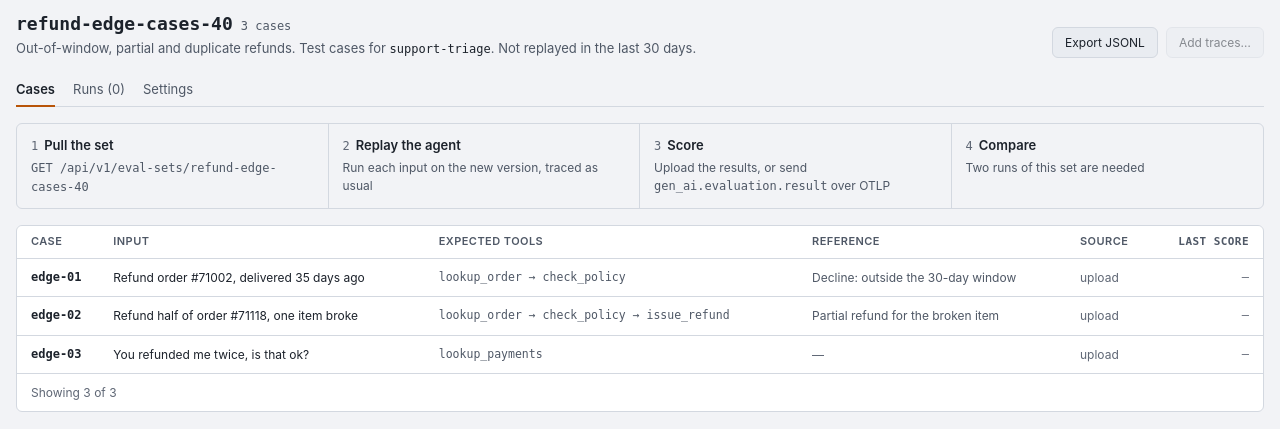
Test case: EvalSetView › hides writes from a read-only caller
Expected: the button "Add traces…" is disabled, [1166, 27, 1264, 58]
Expected: the text "upload" is shown 3 times, [1080, 270, 1119, 285]; [1080, 308, 1119, 323]; [1080, 347, 1119, 362]
Click the tab "Settings" at (168, 91), box [143, 74, 193, 107]
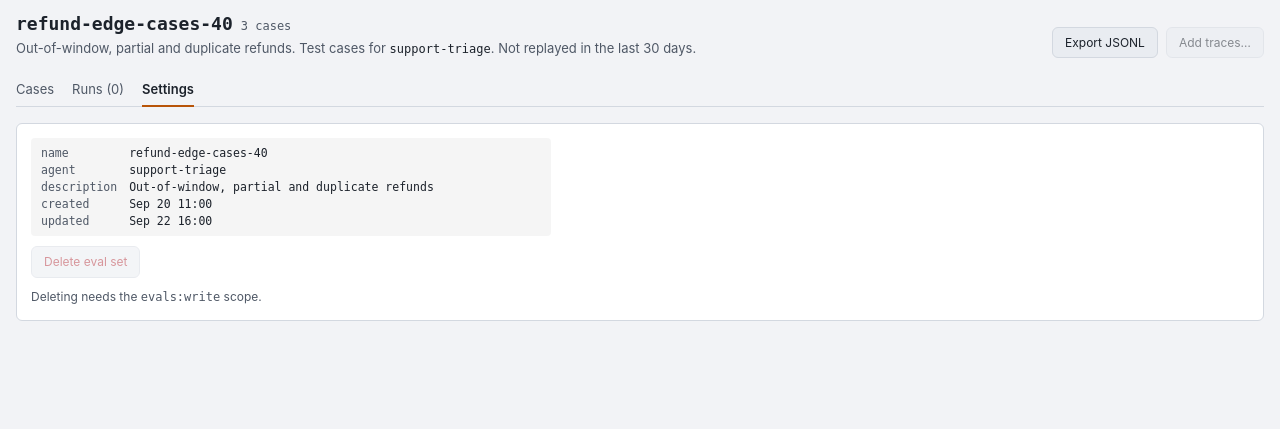
Expected: the button "Delete eval set" is disabled, [31, 246, 140, 278]
Expected: the text "Deleting needs the evals:write scope." is shown, [31, 289, 262, 304]
